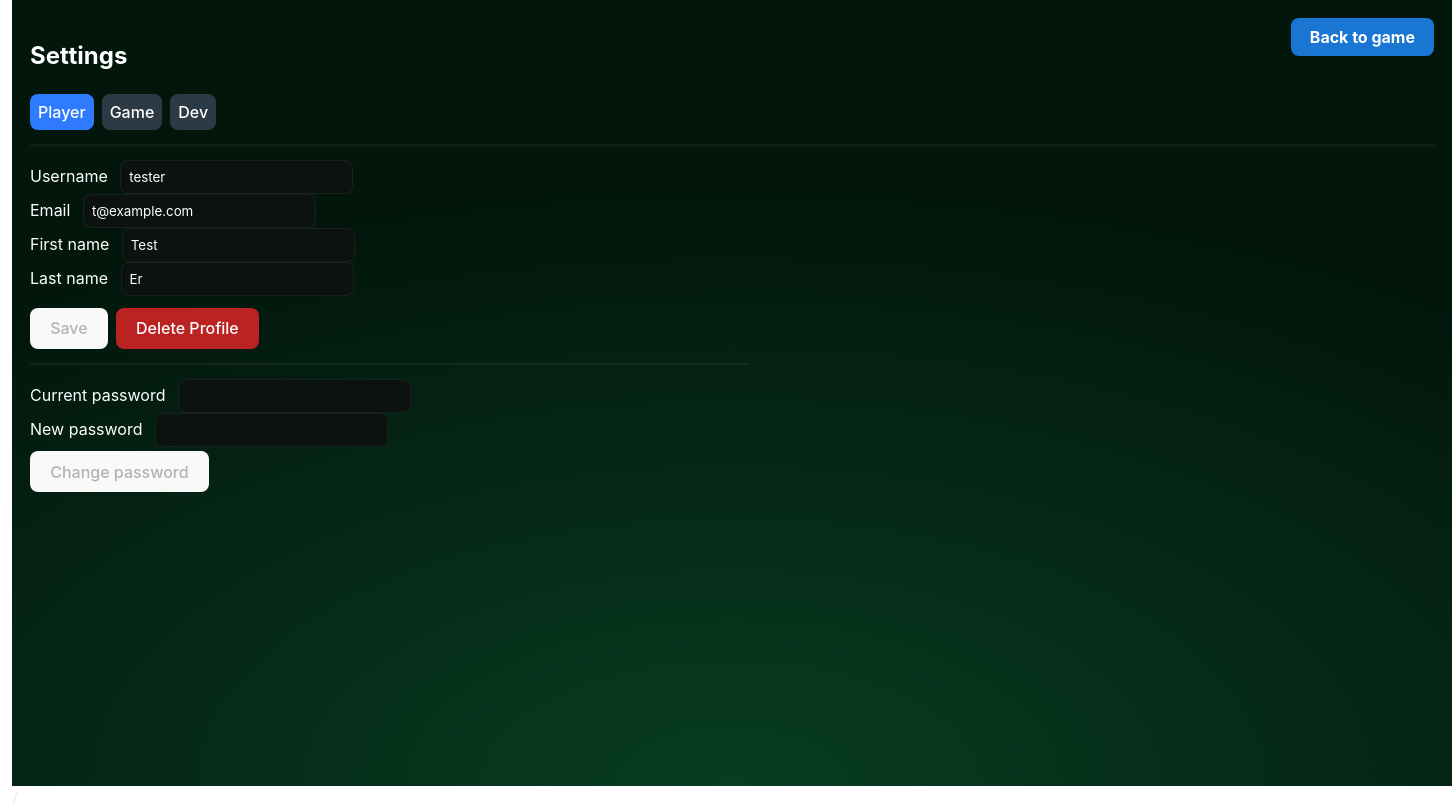
Test: Settings › shows a failed delete inline, with a fallback message
The width and height of the screenshot is (1452, 810).
What coordinates should you click on to do the following:
click the button "Delete Profile"
I would click on:
 (187, 328)
Its box is left=116, top=308, right=259, bottom=349.
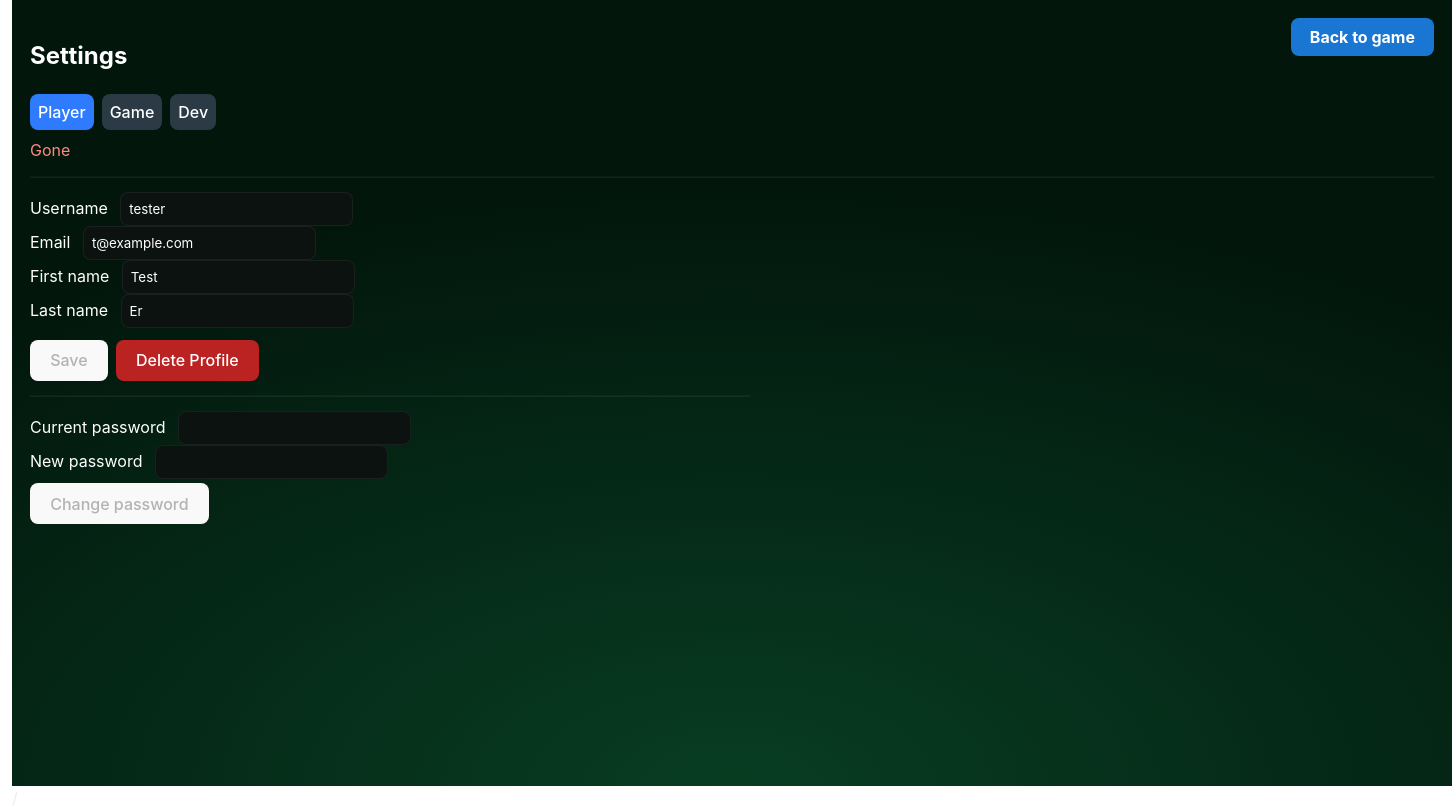
Check: the message reads "Gone", box left=30, top=140, right=70, bottom=160
What coordinates should you click on to do the following:
click the button "Delete Profile"
I would click on:
 (187, 360)
Its box is left=116, top=340, right=259, bottom=381.
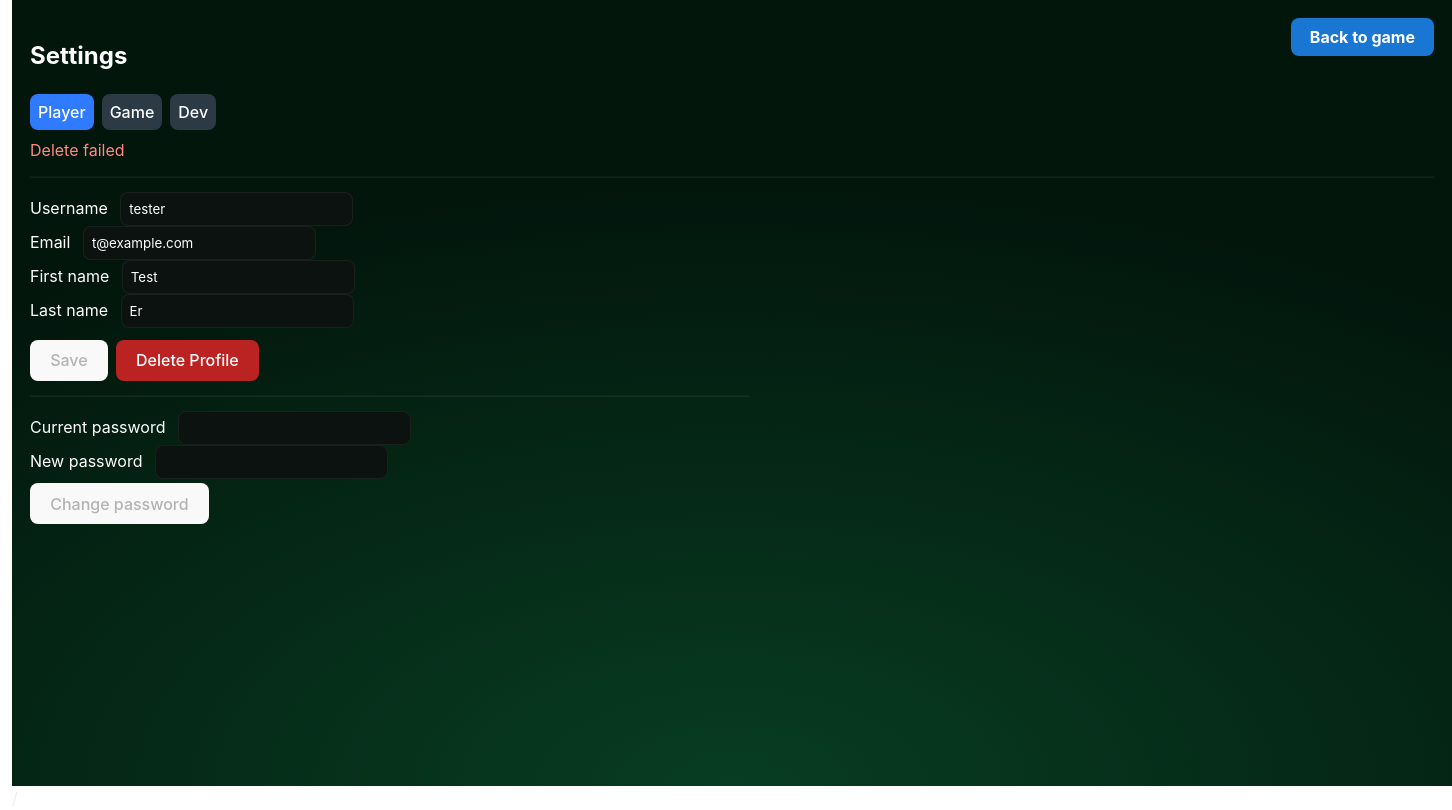
Check: the message reads "Delete failed", box left=30, top=140, right=124, bottom=160
